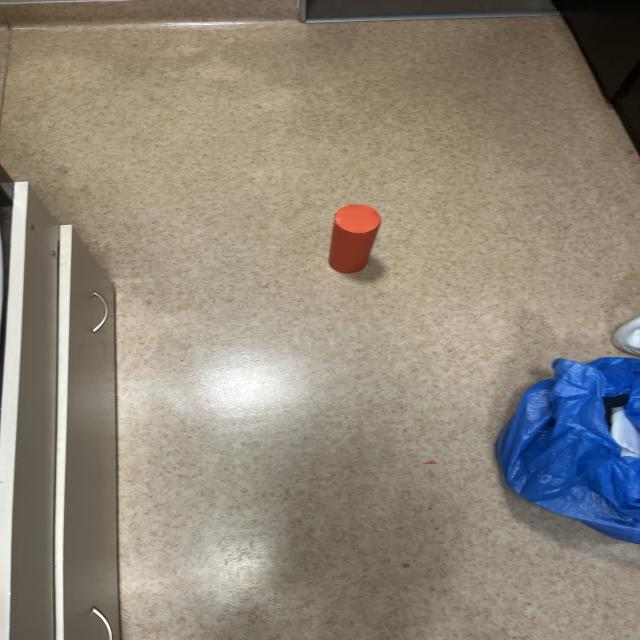przeszkoda: (329, 204, 381, 273)
